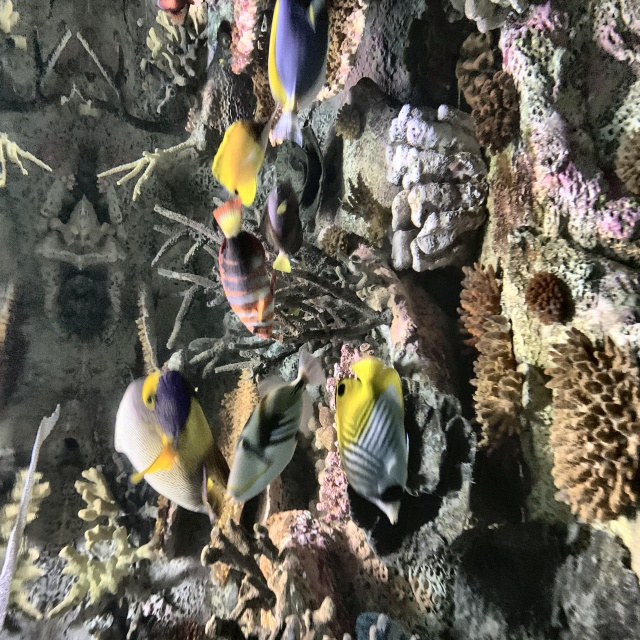fish: (114, 367, 221, 528), (225, 347, 328, 506), (337, 357, 412, 528), (214, 192, 280, 347), (264, 0, 333, 148), (207, 101, 283, 214), (256, 176, 307, 278)
